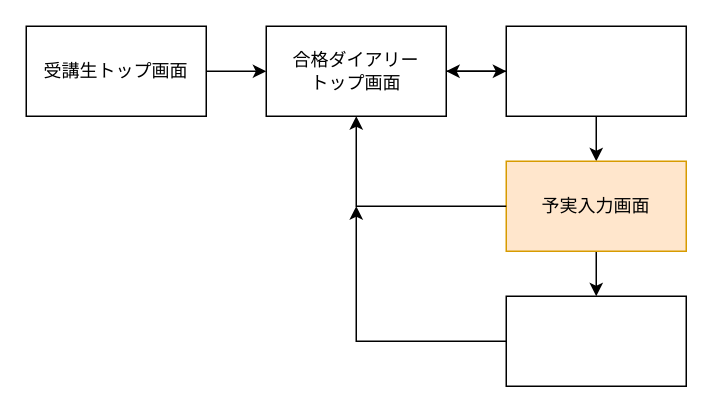
This 713x413 diagram has some shape labels left out. The centre of each missing label's shape, as x and y in pixels:
"メモ画面" goes at point (595, 340).
"ラベル選択画面" goes at point (595, 70).
